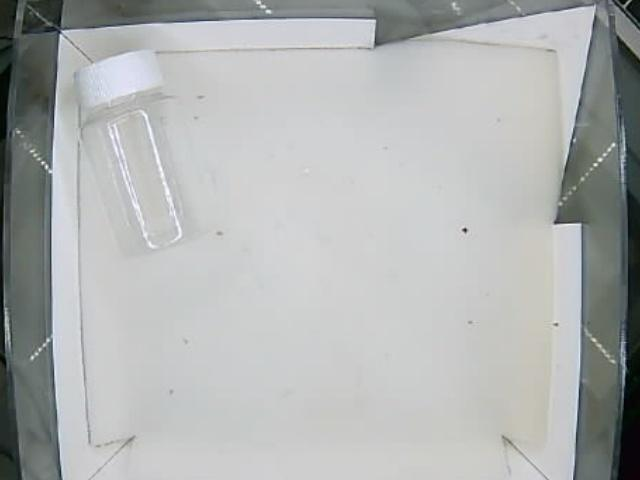Bottle: (74, 50, 221, 256)
